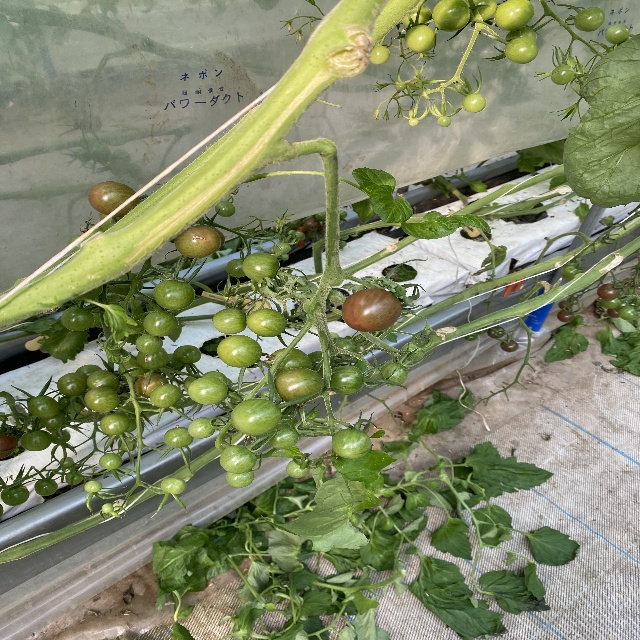l_green: (231, 398, 282, 436), (274, 368, 324, 404), (216, 334, 262, 367), (267, 349, 312, 378), (154, 280, 196, 310), (494, 0, 534, 31), (332, 428, 372, 459), (187, 376, 229, 405), (432, 0, 470, 32), (247, 308, 287, 338), (241, 252, 280, 282), (329, 365, 366, 395), (219, 445, 257, 474), (83, 386, 120, 413), (404, 24, 437, 54), (118, 355, 152, 384), (213, 306, 247, 334), (504, 37, 538, 64), (143, 311, 178, 337), (107, 271, 143, 296), (266, 423, 300, 449), (61, 306, 95, 331), (149, 383, 183, 408), (401, 2, 432, 29), (573, 7, 605, 32), (462, 0, 498, 22), (86, 370, 121, 392), (137, 346, 169, 370), (27, 395, 59, 419), (307, 351, 336, 377), (57, 372, 87, 397), (379, 362, 409, 386), (99, 413, 131, 435), (20, 430, 53, 451), (165, 426, 194, 448), (0, 485, 30, 506), (187, 417, 215, 439), (505, 27, 537, 46), (58, 394, 87, 414), (135, 334, 163, 354), (226, 469, 255, 488), (605, 23, 630, 45), (334, 338, 361, 358), (172, 345, 202, 363), (40, 411, 68, 429), (551, 65, 575, 85), (462, 93, 487, 112), (401, 342, 426, 361), (160, 477, 187, 494), (34, 478, 58, 496), (226, 258, 247, 278), (286, 459, 309, 477), (370, 45, 390, 65), (100, 453, 123, 470), (76, 364, 102, 379), (201, 371, 227, 384), (215, 201, 236, 217), (50, 431, 72, 444), (118, 437, 137, 452), (272, 242, 291, 255), (84, 480, 103, 493), (66, 472, 84, 485), (409, 78, 423, 91), (437, 115, 452, 127), (59, 457, 74, 468), (395, 83, 407, 92), (102, 503, 112, 513), (408, 117, 419, 126)
l_half_ripened: (341, 288, 403, 332), (89, 181, 140, 218), (174, 225, 221, 258), (133, 372, 169, 397), (0, 434, 18, 458)
